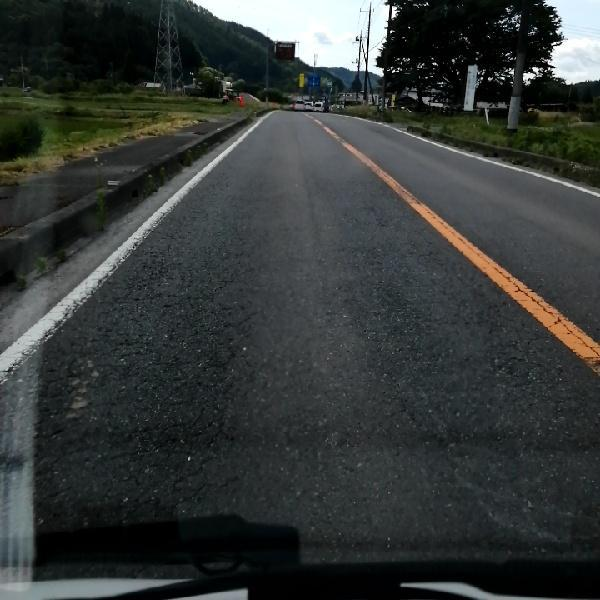D20: (24, 185, 250, 507), (404, 296, 599, 541)
